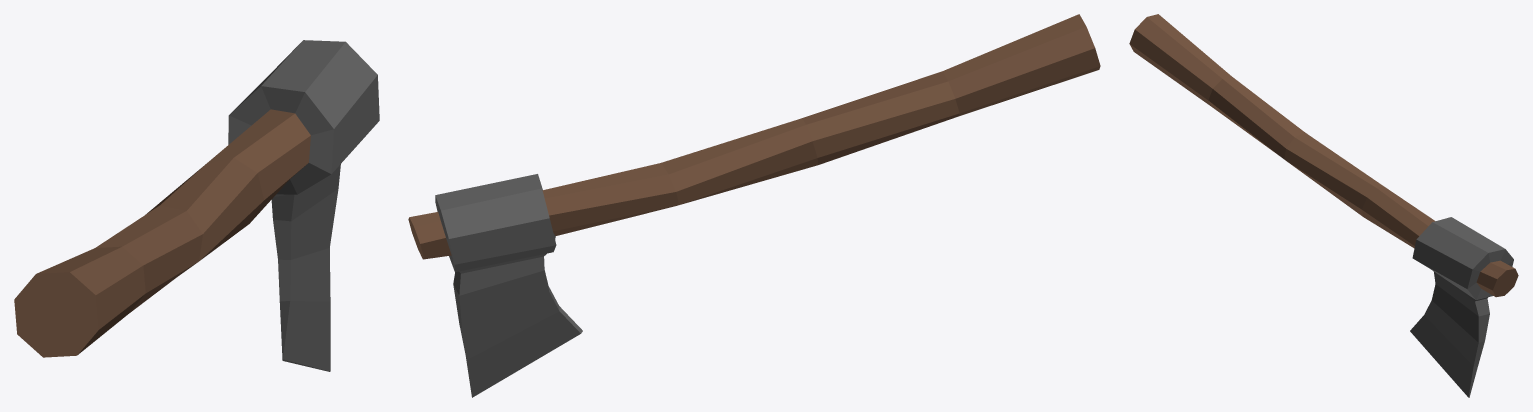
File: Axe.fbx
The picture shows the model from 3 angles, left to right: view 1: azimuth 30°, elevation 25°; view 2: azimuth 150°, elevation 25°; view 3: azimuth 270°, elevation 25°; orthographic projection. The views are drawn at different scales.
Parts seen in each view (by area): view 1: M_AX; view 2: M_AX; view 3: M_AX.
Part boxes in pixels (x1,y1,x2,y2): M_AX: (14, 40, 379, 371); M_AX: (408, 14, 1100, 397); M_AX: (1129, 14, 1518, 397).
Bounding box in the file's own units: 21.16 × 13.98 × 20.63.
1 material, 1 textured.
